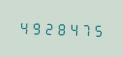eight: (53, 19, 64, 37)
five: (89, 20, 100, 38)
four: (17, 18, 28, 35), (65, 20, 76, 37)
nine: (29, 18, 40, 36)
seven: (77, 20, 88, 37)
two: (41, 19, 52, 36)
